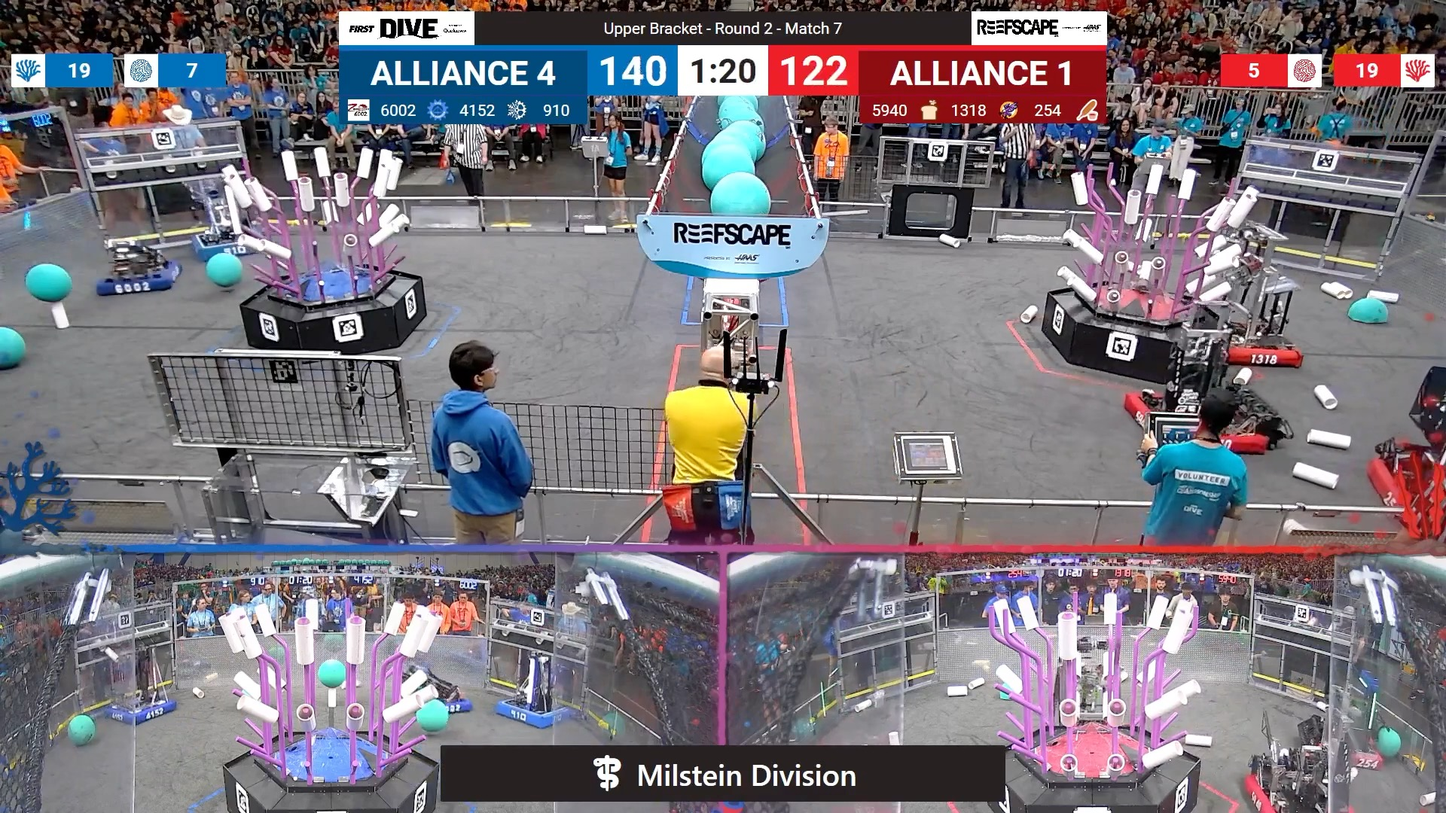bumpers: (1130, 392, 1285, 465), (1238, 765, 1364, 813), (1213, 323, 1312, 374), (95, 259, 191, 302), (95, 695, 180, 731), (491, 698, 576, 733), (189, 233, 267, 262), (415, 692, 472, 717)
